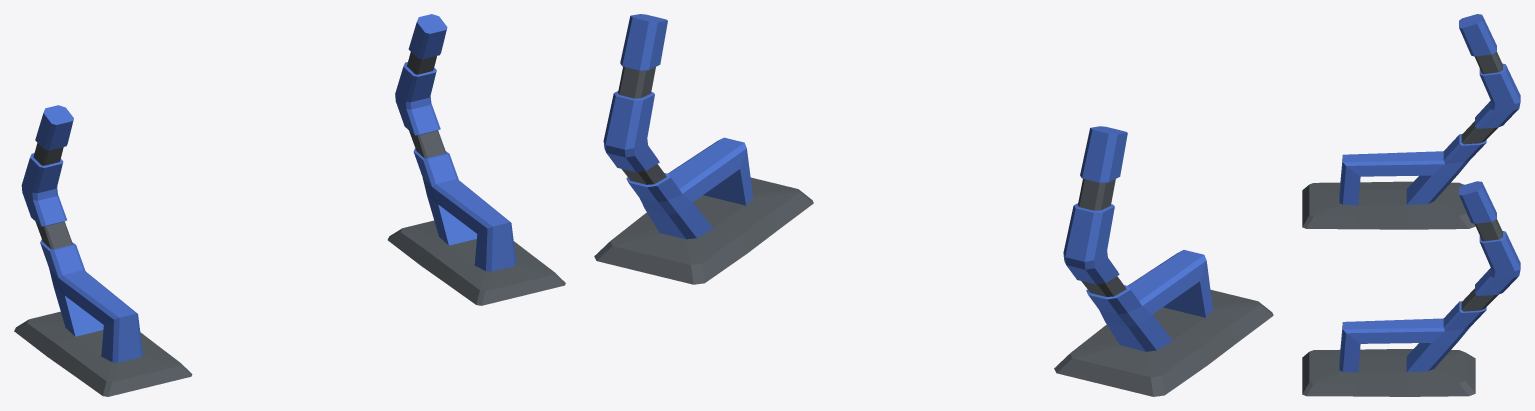
The model's file is Dropship_05_Rear_Landers_Blue.fbx.
The picture shows the model from 3 angles, left to right: view 1: azimuth 30°, elevation 25°; view 2: azimuth 150°, elevation 25°; view 3: azimuth 270°, elevation 25°; orthographic projection. The views are drawn at different scales.
Visible parts, largest first — view 1: Dropship_05_Rear_Landers_Blue; view 2: Dropship_05_Rear_Landers_Blue; view 3: Dropship_05_Rear_Landers_Blue.
Part boxes in pixels (x1,y1,x2,y2): Dropship_05_Rear_Landers_Blue: (14, 14, 565, 396); Dropship_05_Rear_Landers_Blue: (594, 14, 1273, 396); Dropship_05_Rear_Landers_Blue: (1302, 14, 1520, 396).
Size of the model in its own units: 462 by 198 by 205.
1 material, 1 textured.
